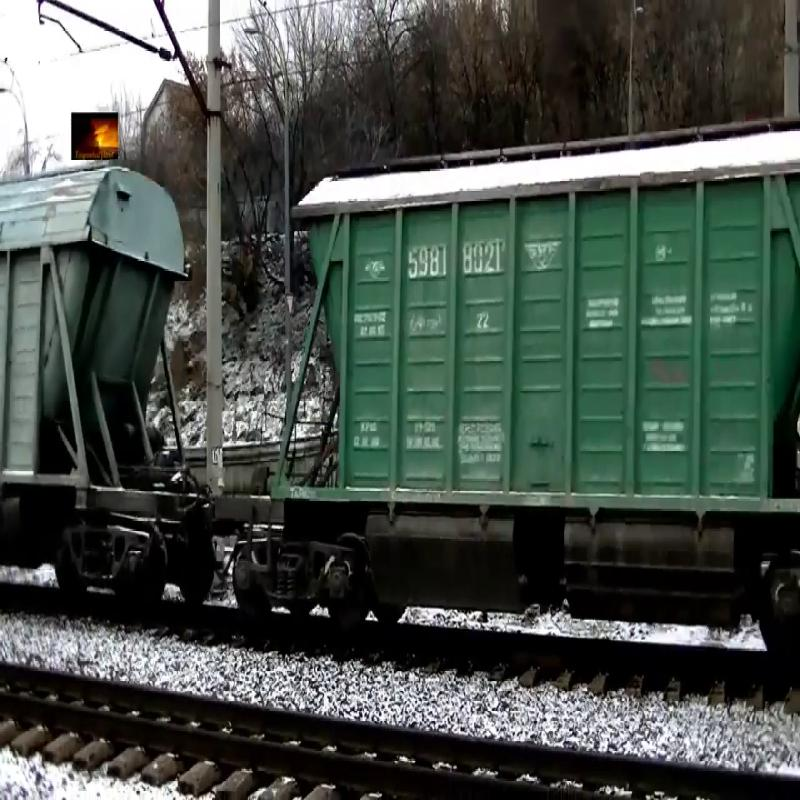train: (274, 117, 800, 593), (2, 150, 191, 530)
